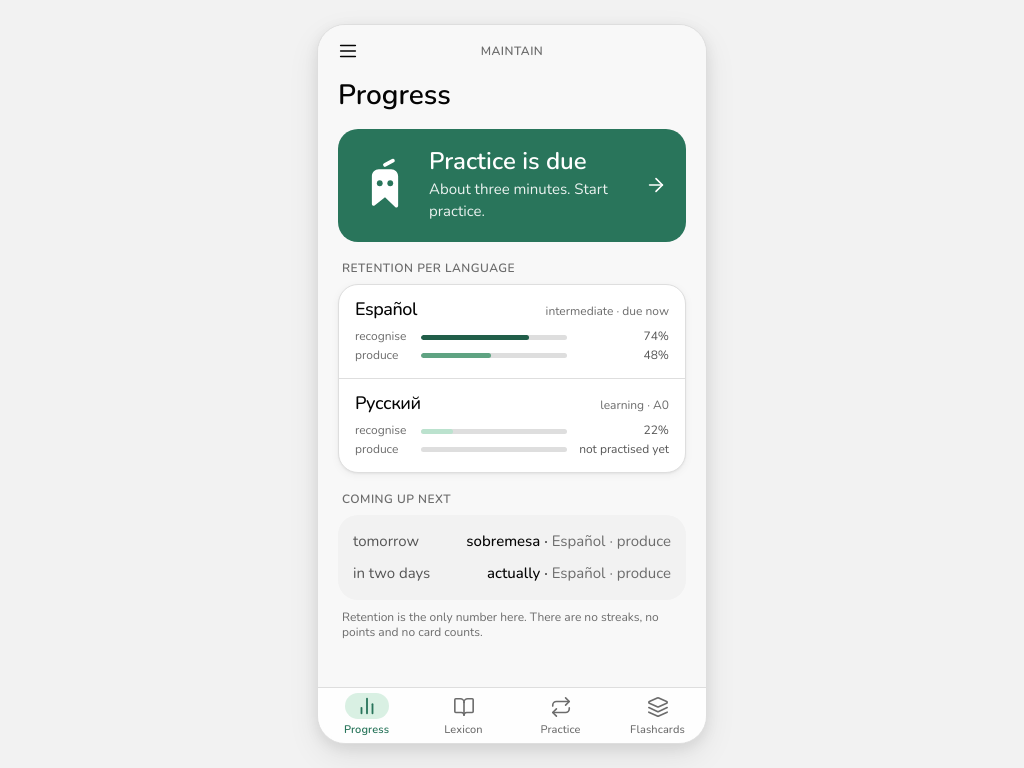
Test case: the side panel › goes straight to the next course step, across modes
The width and height of the screenshot is (1024, 768).
Step 1. Click the button named "Open the side panel" → x=348, y=51, box [326, 29, 370, 73]
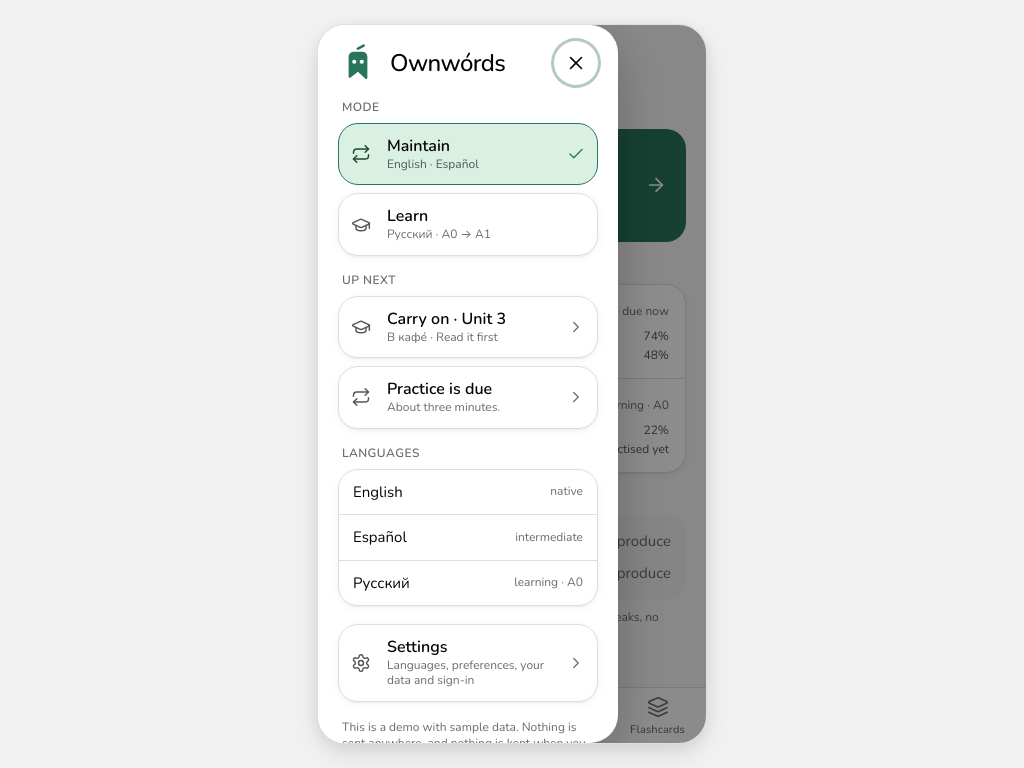
Step 2. Click the button "Carry on · Unit 3 В кафе́ · Read it first" → x=468, y=327, box [338, 296, 598, 358]
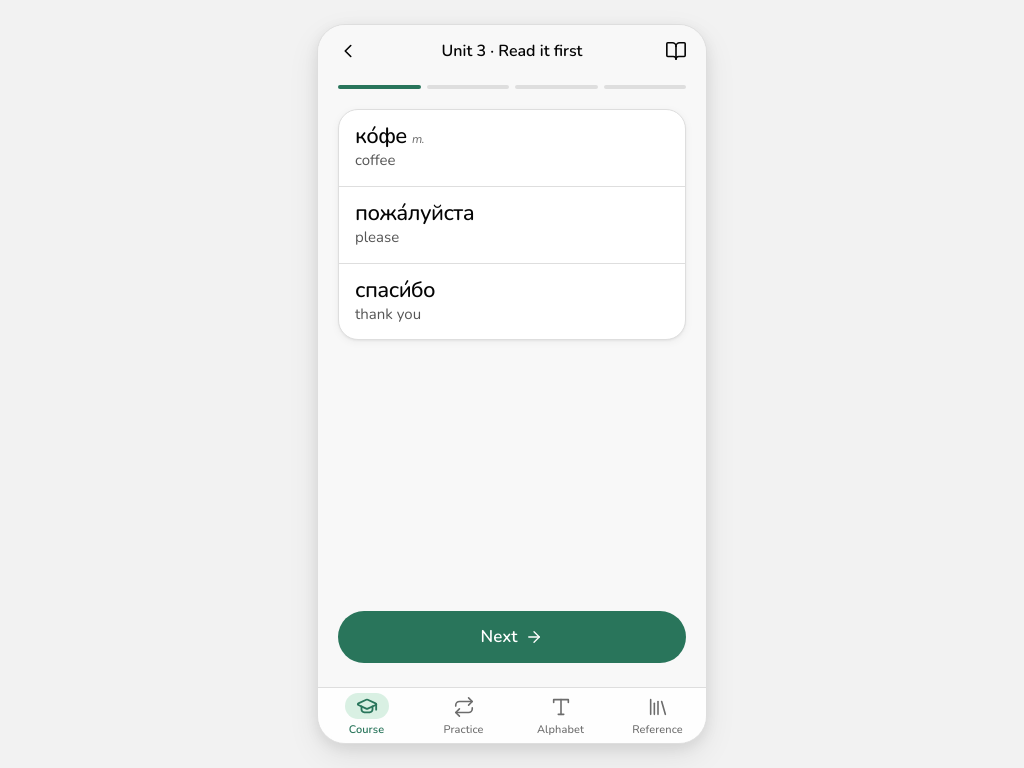
Result: the navigation bar named "Learn" is shown at [318, 687, 706, 743]
Result: the heading "Unit 3 · Read it first" is shown at [442, 40, 582, 62]
